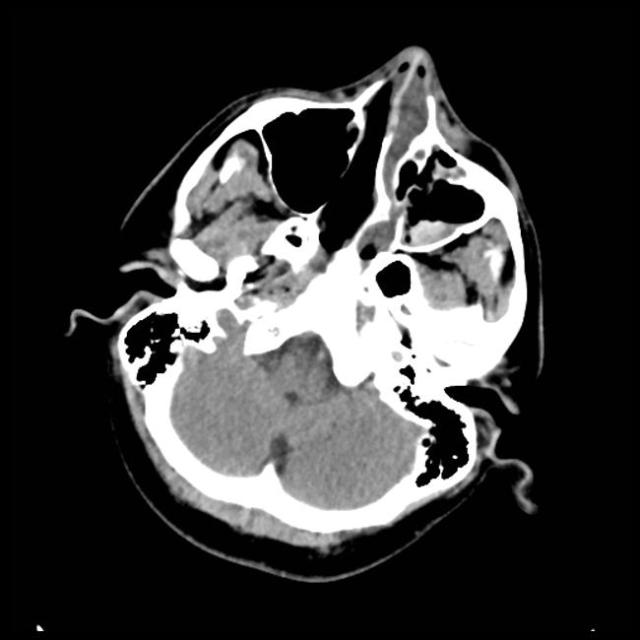lesion: (70, 43, 549, 580)
